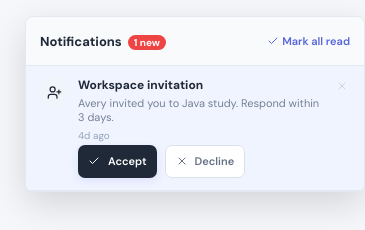
Test: invitation notification actions › lets the invited user decline from the notification
Click the button "Decline": (205, 161) [164,145,245,178]
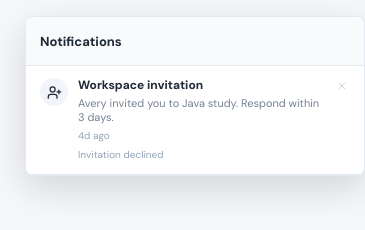
Now the text "Invitation declined" is shown, box [78,148,164,161]
